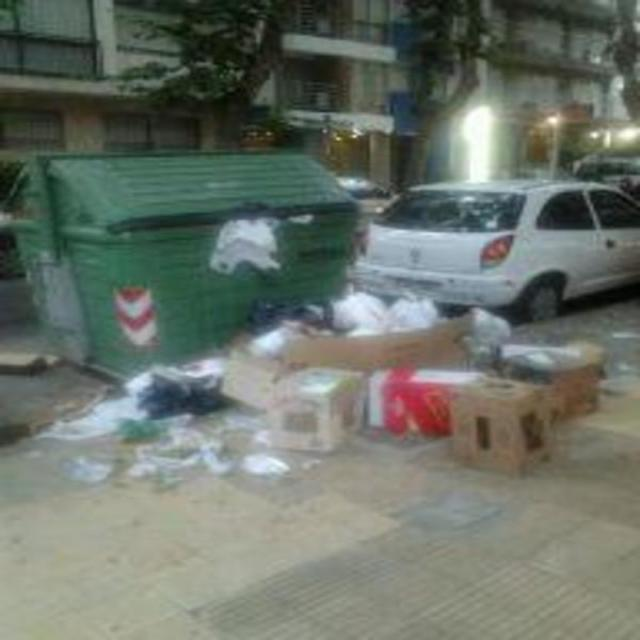garbage: (373, 329, 612, 481), (25, 360, 238, 487), (250, 294, 472, 380), (241, 360, 376, 487), (192, 208, 292, 287)
